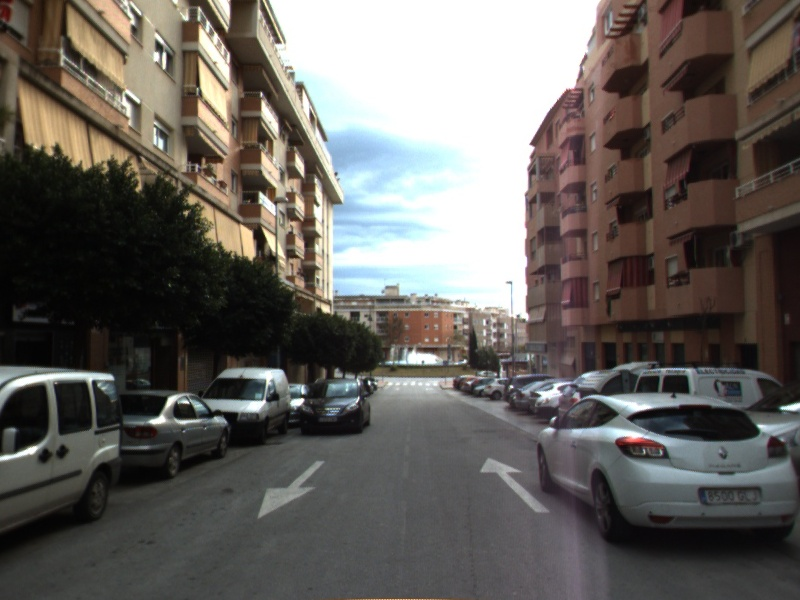STRAIGHT: (478, 455, 552, 515)
